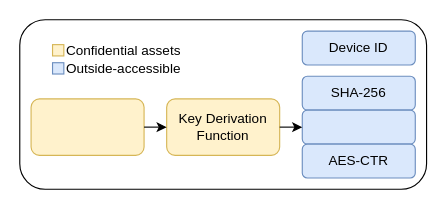
Image size: 446x209. Some labels were removed from this diagram. The centre of each missing label's shape, as x and y in pixels:
Device Unique Secret: point 87,126
HMAC-SHA-256: point 358,126
